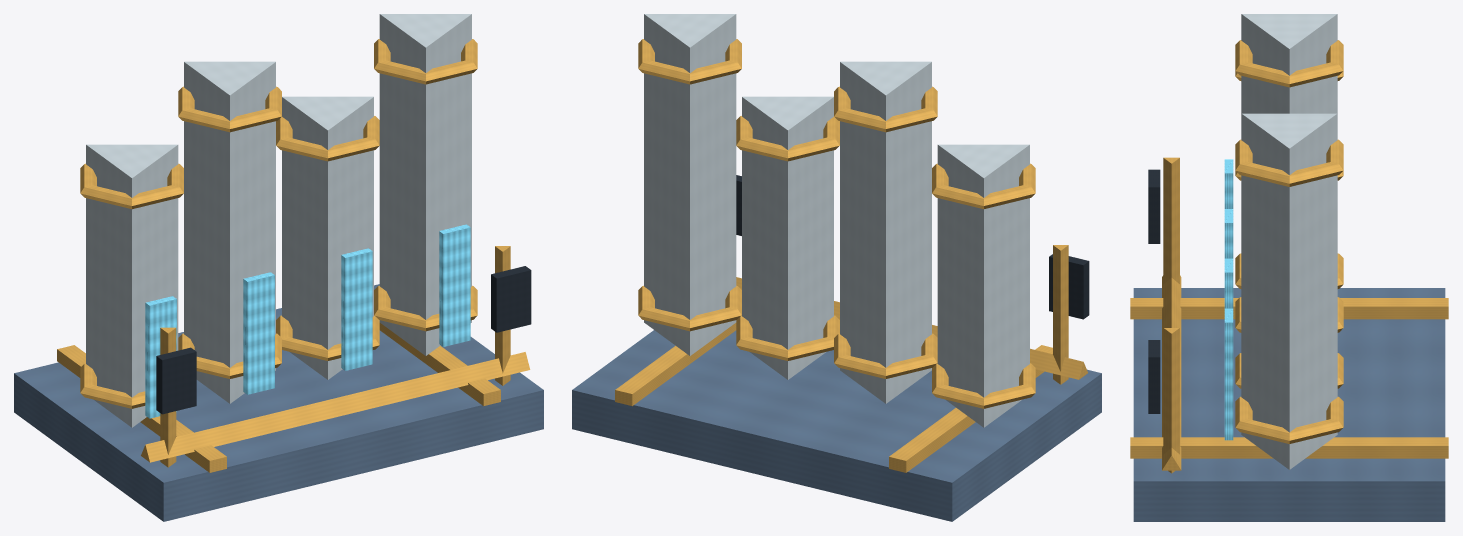
The model's file is atlas100-s052-a01.lod2.glb.
The picture shows the model from 3 angles, left to right: view 1: azimuth 30°, elevation 25°; view 2: azimuth 150°, elevation 25°; view 3: azimuth 270°, elevation 25°; orthographic projection. The views are drawn at different scales.
Parts seen in each view (by area): view 1: atlas100-s052-a01:part-000, atlas100-s052-a01:part-018, atlas100-s052-a01:part-008, atlas100-s052-a01:part-003, atlas100-s052-a01:part-013, atlas100-s052-a01:part-027, atlas100-s052-a01:part-012, atlas100-s052-a01:part-022, atlas100-s052-a01:part-017, atlas100-s052-a01:part-024, atlas100-s052-a01:part-026, atlas100-s052-a01:part-007 (+12 smaller); view 2: atlas100-s052-a01:part-000, atlas100-s052-a01:part-018, atlas100-s052-a01:part-008, atlas100-s052-a01:part-003, atlas100-s052-a01:part-013, atlas100-s052-a01:part-002, atlas100-s052-a01:part-001, atlas100-s052-a01:part-004, atlas100-s052-a01:part-009, atlas100-s052-a01:part-010, atlas100-s052-a01:part-020, atlas100-s052-a01:part-005 (+6 smaller); view 3: atlas100-s052-a01:part-000, atlas100-s052-a01:part-018, atlas100-s052-a01:part-008, atlas100-s052-a01:part-002, atlas100-s052-a01:part-001, atlas100-s052-a01:part-010, atlas100-s052-a01:part-019, atlas100-s052-a01:part-020, atlas100-s052-a01:part-025, atlas100-s052-a01:part-023, atlas100-s052-a01:part-027, atlas100-s052-a01:part-022 (+8 smaller).
Part boxes in pixels (<box>): atlas100-s052-a01:part-000: <box>14,284,543,521</box>; atlas100-s052-a01:part-018: <box>379,14,471,355</box>; atlas100-s052-a01:part-008: <box>184,61,275,403</box>; atlas100-s052-a01:part-003: <box>86,144,178,427</box>; atlas100-s052-a01:part-013: <box>282,96,373,379</box>; atlas100-s052-a01:part-027: <box>141,352,530,462</box>; atlas100-s052-a01:part-012: <box>243,272,274,394</box>; atlas100-s052-a01:part-022: <box>439,224,470,346</box>; atlas100-s052-a01:part-017: <box>341,248,372,370</box>; atlas100-s052-a01:part-024: <box>156,347,196,414</box>; atlas100-s052-a01:part-026: <box>491,266,531,332</box>; atlas100-s052-a01:part-007: <box>145,296,176,418</box>; atlas100-s052-a01:part-000: <box>572,330,1101,521</box>; atlas100-s052-a01:part-018: <box>644,14,736,355</box>; atlas100-s052-a01:part-008: <box>840,61,931,403</box>; atlas100-s052-a01:part-003: <box>937,144,1029,427</box>; atlas100-s052-a01:part-013: <box>742,96,833,379</box>; atlas100-s052-a01:part-002: <box>615,323,736,406</box>; atlas100-s052-a01:part-001: <box>889,345,1052,472</box>; atlas100-s052-a01:part-004: <box>932,363,1035,408</box>; atlas100-s052-a01:part-009: <box>834,333,937,378</box>; atlas100-s052-a01:part-010: <box>834,86,937,132</box>; atlas100-s052-a01:part-020: <box>638,39,741,84</box>; atlas100-s052-a01:part-005: <box>932,163,1035,209</box>; atlas100-s052-a01:part-000: <box>1133,288,1445,521</box>; atlas100-s052-a01:part-018: <box>1241,113,1337,469</box>; atlas100-s052-a01:part-008: <box>1241,14,1337,113</box>; atlas100-s052-a01:part-002: <box>1130,437,1448,458</box>; atlas100-s052-a01:part-001: <box>1130,298,1448,319</box>; atlas100-s052-a01:part-010: <box>1235,40,1343,87</box>; atlas100-s052-a01:part-019: <box>1235,396,1343,443</box>; atlas100-s052-a01:part-020: <box>1235,139,1343,186</box>; atlas100-s052-a01:part-025: <box>1163,328,1179,473</box>; atlas100-s052-a01:part-023: <box>1163,157,1179,284</box>; atlas100-s052-a01:part-027: <box>1162,275,1181,470</box>; atlas100-s052-a01:part-022: <box>1224,308,1233,440</box>.
Bounding box in the file's own units: 2.76 × 2.39 × 1.84.
5 materials, 5 textured.
